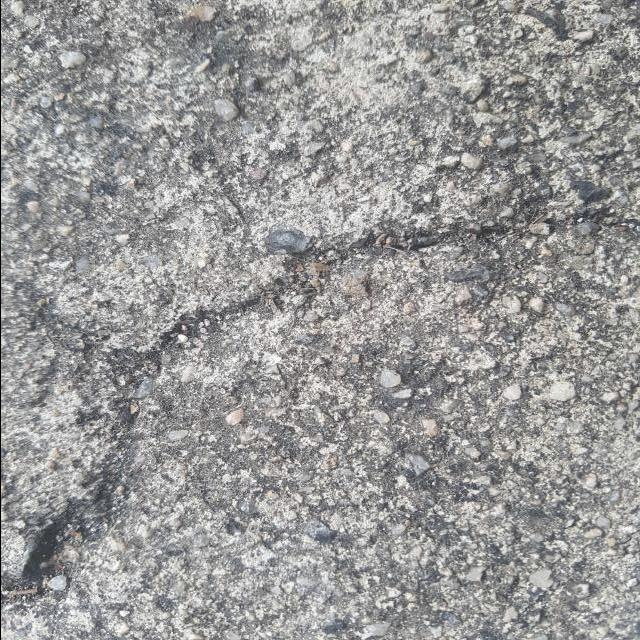SurfaceCrack: (4, 119, 637, 638)
